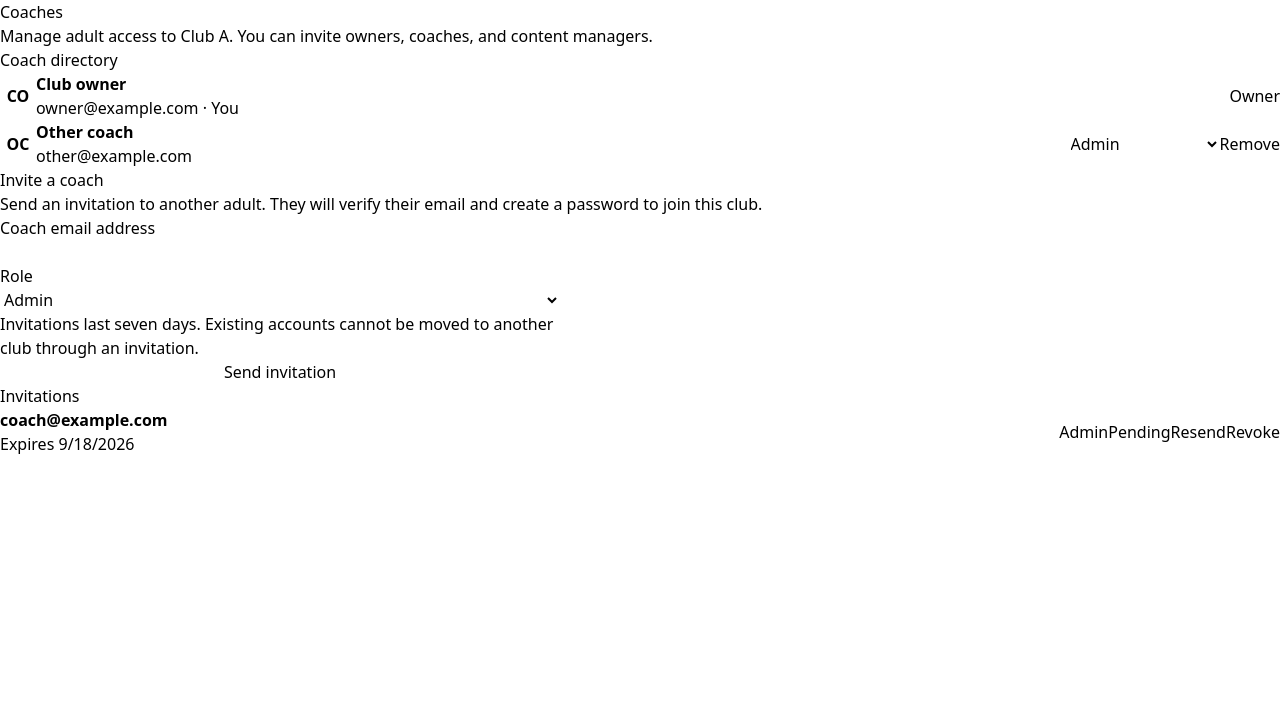
CoachesPage › requires confirmation before revocation and places focus on Cancel
Click the button with aria-label "Revoke invitation for coach@example.com": (1253, 432) [1226,420,1279,444]
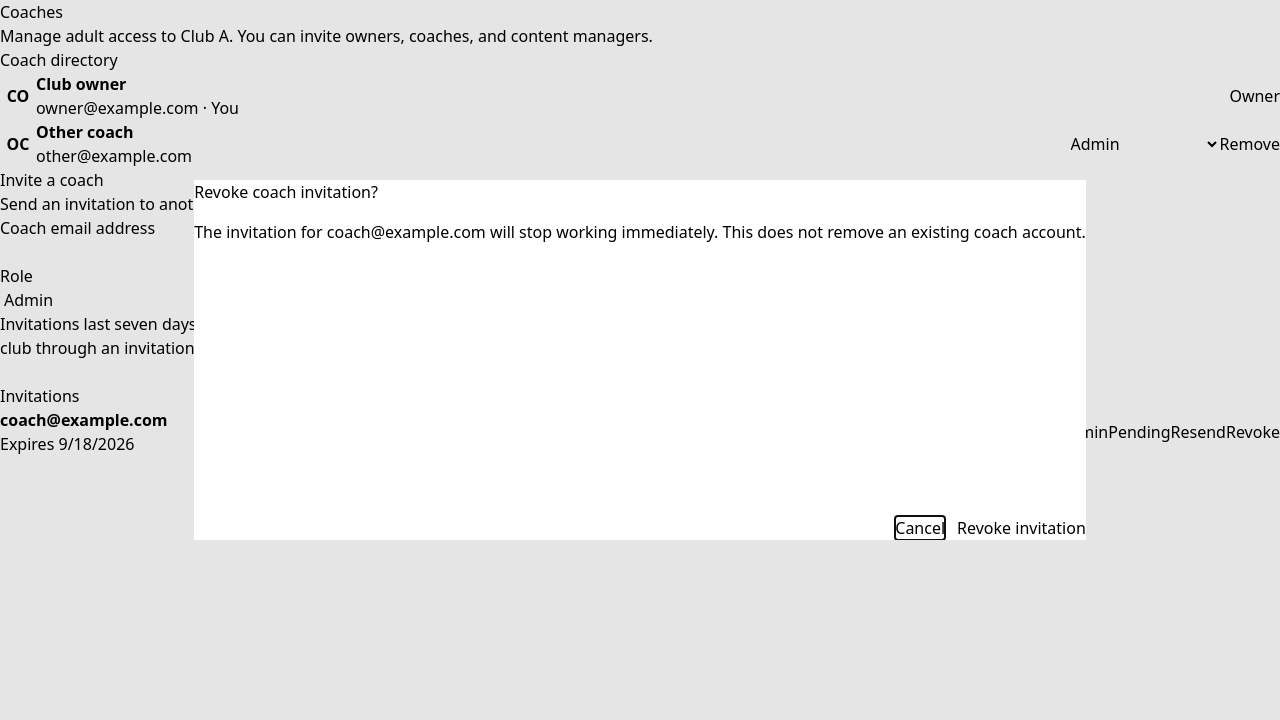
Click the button "Revoke invitation": (1021, 528) [957,516,1086,540]
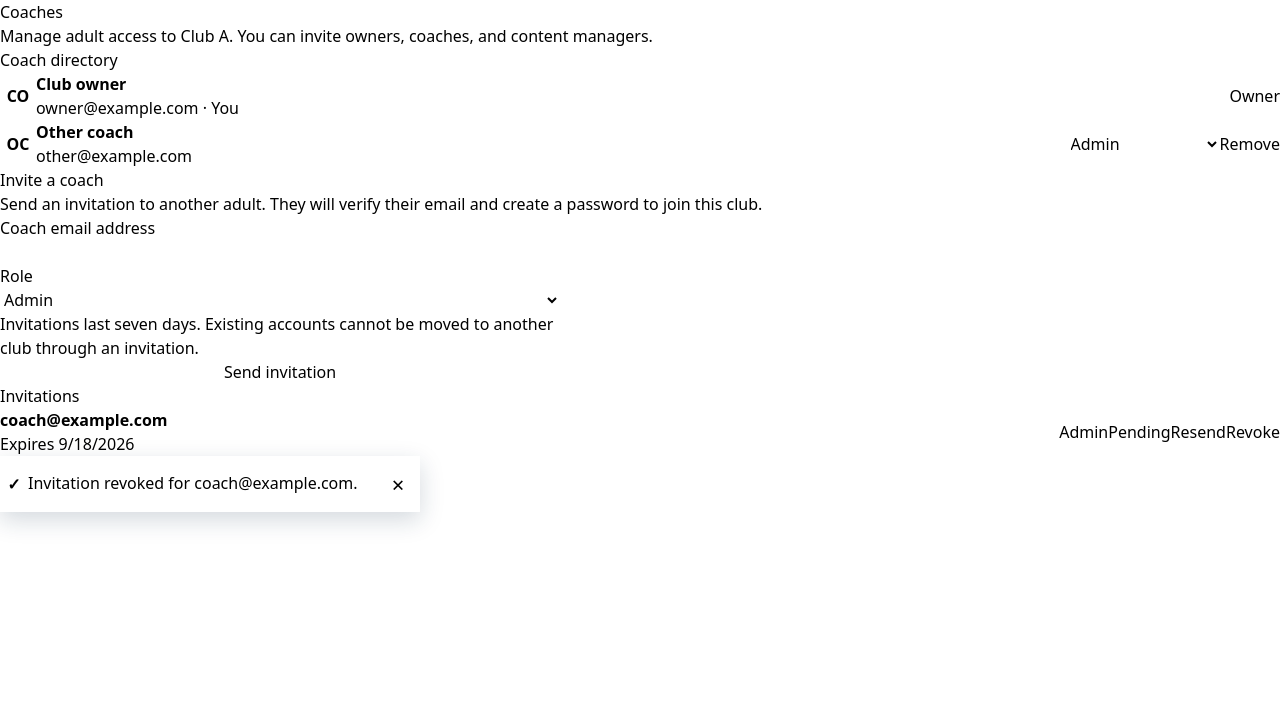
Expected: the dialog is gone
Expected: the text "Invitation revoked for coach@example.com." is shown, [28,472,376,496]
